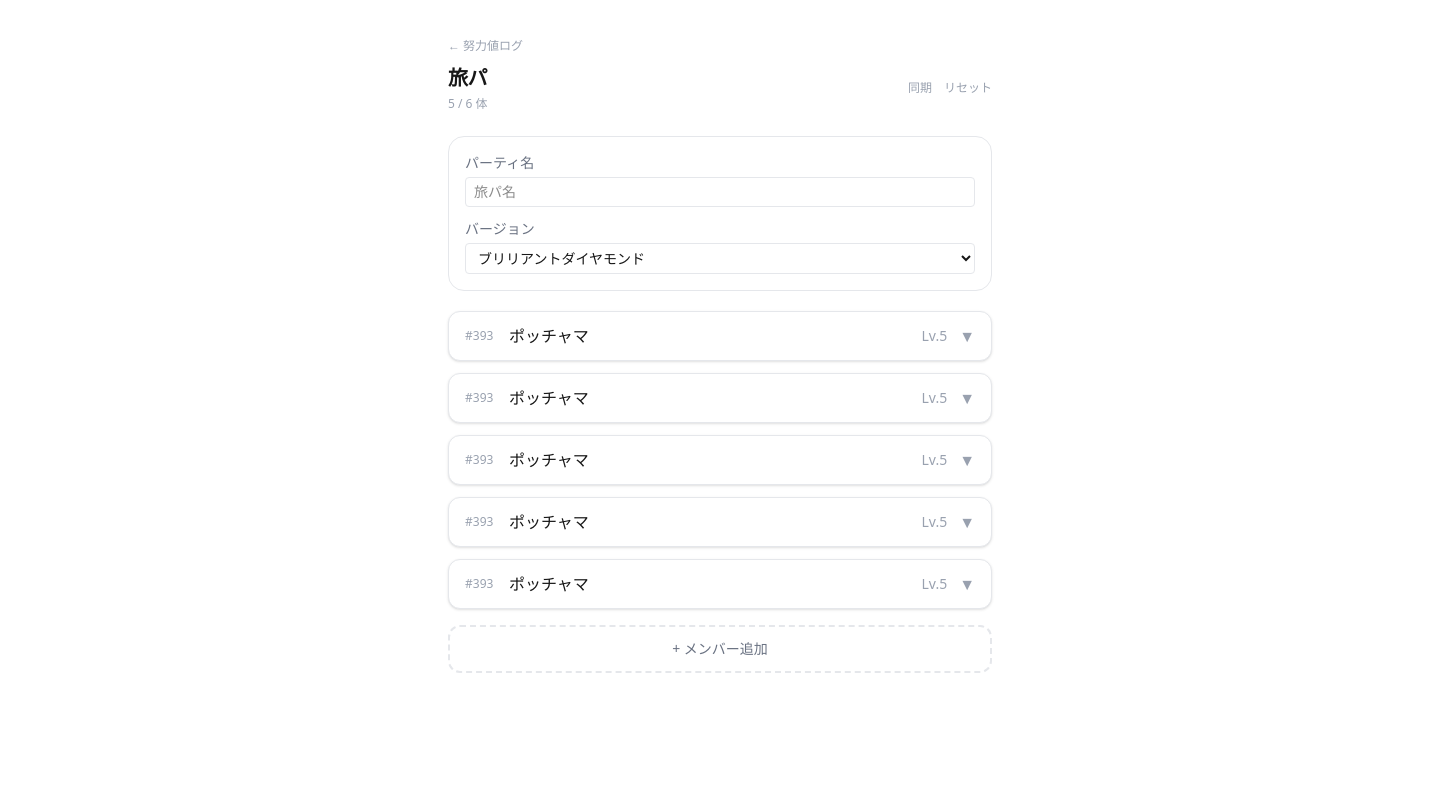
Test: PartyPage (/) integration › modal ability/heldItem datalists dedupe non-empty suggestions
This screenshot has width=1440, height=810.
Click the button "+ メンバー追加".
click(720, 649)  # box x1=448 y1=625 x2=992 y2=673
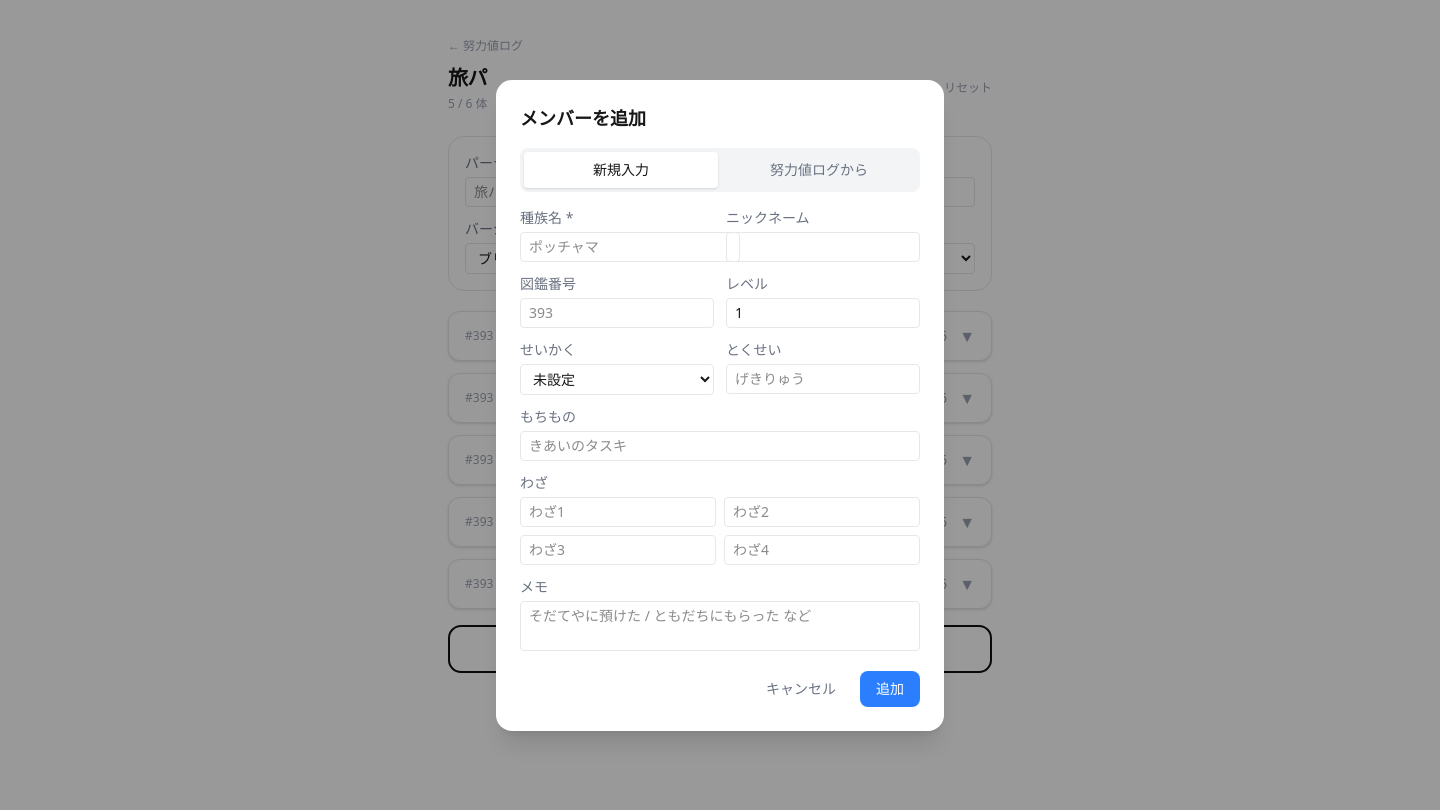
Expected: the heading "メンバーを追加" is shown, x1=520 y1=106 x2=646 y2=130
